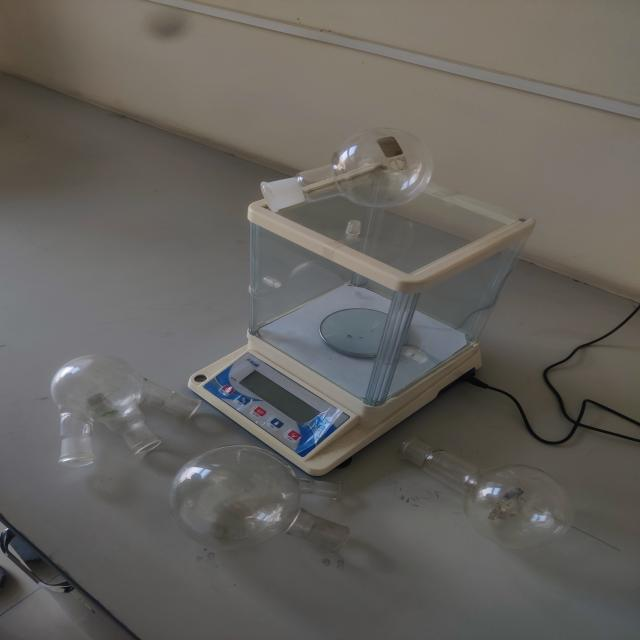Round_Bottom_Flask_Borosilicate_Glass_1_Neck: (382, 407, 615, 576), (248, 103, 444, 234)
Round_Bottom_Flask_Borosilicate_Glass_2_Neck: (165, 424, 386, 574)
Round_Bottom_Flask_Borosilicate_Glass_3_Neck: (17, 338, 246, 483)
